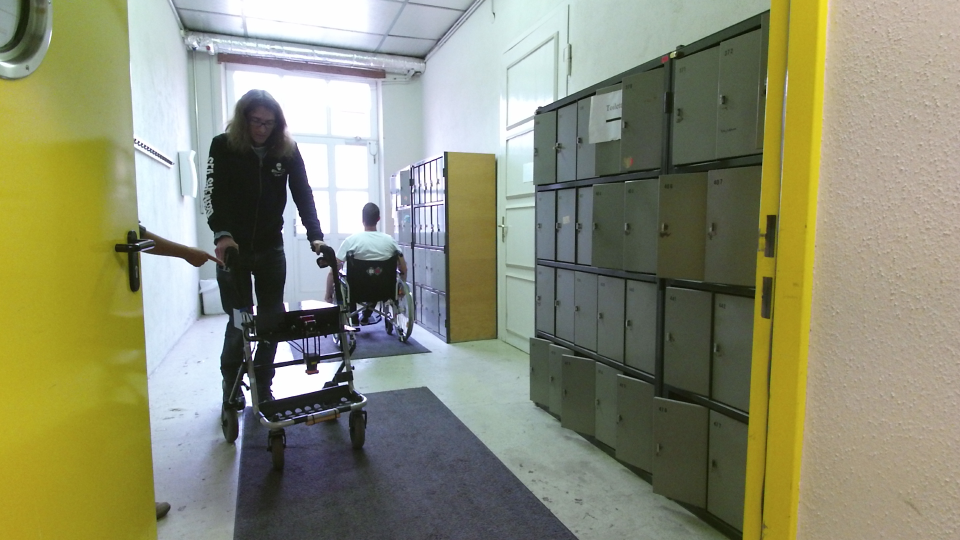wheelchair: (323, 193, 426, 355)
